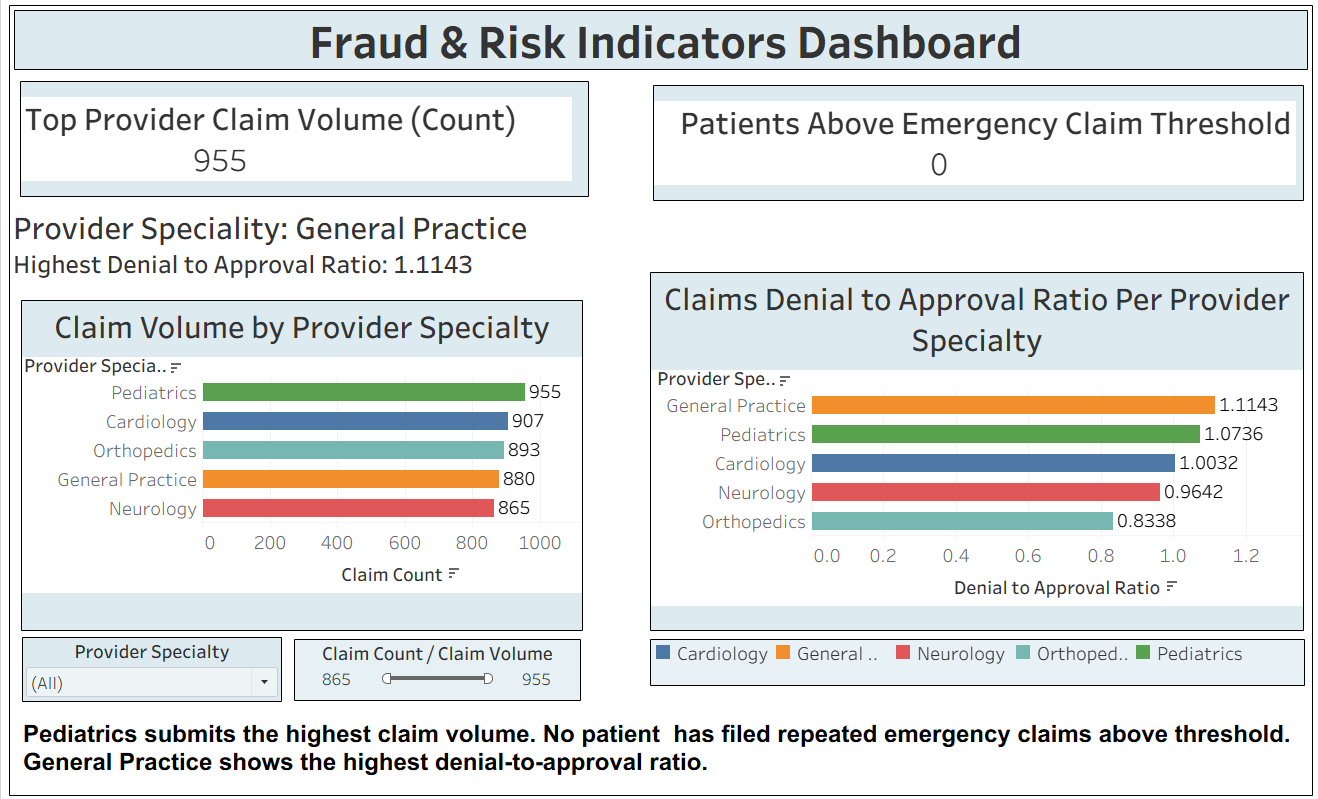

What the dashboard file says about the page in this screenshot:
{"tool":"tableau","page":{"name":"Dashboard 3: Fraud & Risk Indicators","canvas":[1000,1000],"units":"permille","ordinal":2},"visuals":[{"type":"title","box":[6.8,11.2,986.4,84.3]},{"type":"worksheet","title":"KPI - Top Provider Claim Volume","mark":"Automatic","box":[14.4,104.1,431.1,143.7]},{"type":"worksheet","title":"KPI - Patients above Emergency Claim Threshold","mark":"Automatic","box":[493.9,109,493.2,143.7]},{"type":"worksheet","title":"KPI- Denial to Approval Ratio (2)","mark":"Automatic","box":[6.1,254,429.6,152.4]},{"type":"worksheet","title":"Q3: Denial to Approval Ratio","mark":"Automatic","rows":["ProviderSpecialty"],"cols":["Calculation_0253219023720457"],"box":[491.7,340.8,495.4,444.9]},{"type":"worksheet","title":"Q1: Provider Claim Volume","mark":"Automatic","rows":["ProviderSpecialty"],"cols":["Calculation_0253218991247366"],"box":[15.2,375.5,425.8,410.2]},{"type":"filter","title":"Q3: Denial to Approval Ratio","param":"[federated.0q41bvh03h9eb41fq89sx0d0920t].[none:ProviderSpecialty:nk]","box":[15.9,793.1,197,80.5]},{"type":"filter","title":"Q1: Provider Claim Volume","param":"[federated.0q41bvh03h9eb41fq89sx0d0920t].[usr:Calculation_0253218991247366:qk]","box":[222,795.5,217.4,76.8]},{"type":"legend","title":"Q1: Provider Claim Volume","param":"[federated.0q41bvh03h9eb41fq89sx0d0920t].[none:ProviderSpecialty:nk]","box":[491.7,795.5,496.2,58.2]},{"type":"text","box":[13.6,881,968.9,99.1]}]}

Visuals, with their boxes on the dashboard's canvas, which has no fixed pixel size, in thousandths of its width and height (x1, y1, x2, y2). These are canvas units, not pixel positions in the 1318x799 screenshot, which may show the page scaled, cropped or inside an application window:
title: locate(7, 11, 993, 96)
"KPI - Top Provider Claim Volume" worksheet: locate(14, 104, 446, 248)
"KPI - Patients above Emergency Claim Threshold" worksheet: locate(494, 109, 987, 253)
"KPI- Denial to Approval Ratio (2)" worksheet: locate(6, 254, 436, 406)
"Q3: Denial to Approval Ratio" worksheet: locate(492, 341, 987, 786)
"Q1: Provider Claim Volume" worksheet: locate(15, 376, 441, 786)
"Q3: Denial to Approval Ratio" filter: locate(16, 793, 213, 874)
"Q1: Provider Claim Volume" filter: locate(222, 796, 439, 872)
"Q1: Provider Claim Volume" legend: locate(492, 796, 988, 854)
text: locate(14, 881, 982, 980)
